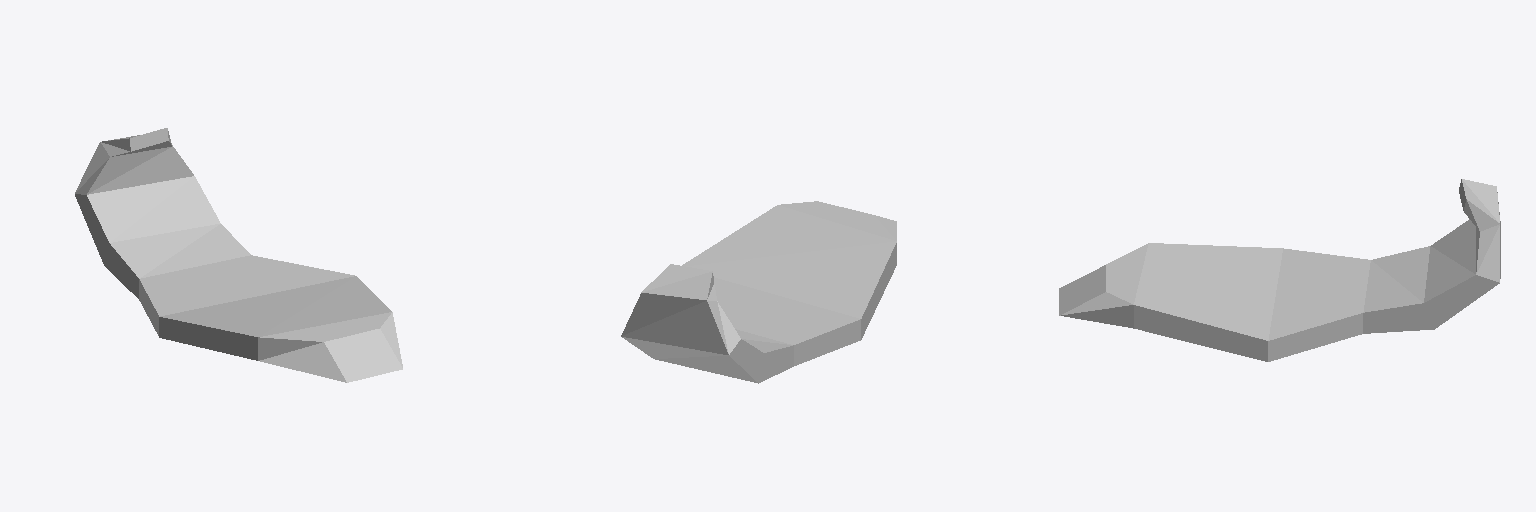
The picture shows the model from 3 angles: view 1: azimuth 30°, elevation 25°; view 2: azimuth 150°, elevation 25°; view 3: azimuth 270°, elevation 25°; orthographic projection.
Visible parts, largest first — view 1: World1Patch8; view 2: World1Patch8; view 3: World1Patch8.
Part boxes in pixels (x1,y1,x2,y2): World1Patch8: (75,128,402,382); World1Patch8: (621,201,896,383); World1Patch8: (1059,179,1500,361).
Bounding box in the file's own units: 15.96 × 9.62 × 32.11.